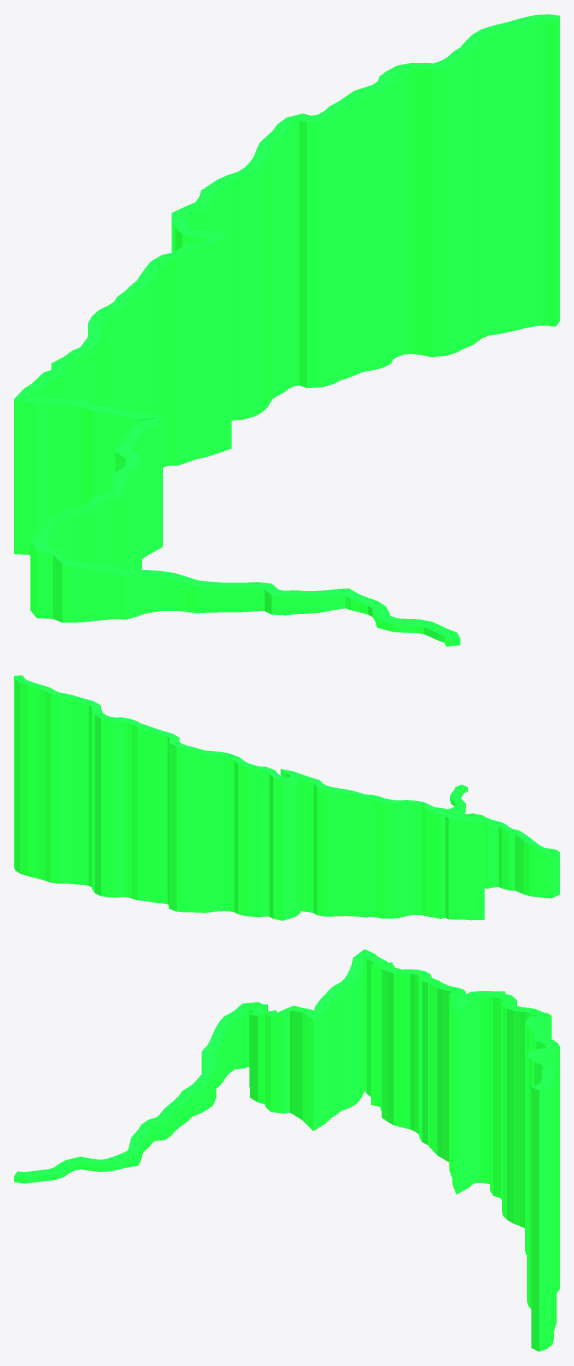
Rendered from mavERTI (1).glb.
3 renders of one model, top to bottom at view 1: azimuth 30°, elevation 25°; view 2: azimuth 150°, elevation 25°; view 3: azimuth 270°, elevation 25°, orthographic. The views are drawn at different scales.
Visible parts, largest first — view 1: 99fc4f05-cb6b-4b13-b2c8-722f28d703a8; view 2: 99fc4f05-cb6b-4b13-b2c8-722f28d703a8; view 3: 99fc4f05-cb6b-4b13-b2c8-722f28d703a8.
Boxes of the visible parts, x1,y1,x2,y2 form: 99fc4f05-cb6b-4b13-b2c8-722f28d703a8: (14,14,559,646); 99fc4f05-cb6b-4b13-b2c8-722f28d703a8: (14,675,559,920); 99fc4f05-cb6b-4b13-b2c8-722f28d703a8: (14,949,559,1351).
Size of the model in its own units: 2626 by 1100 by 2084.
